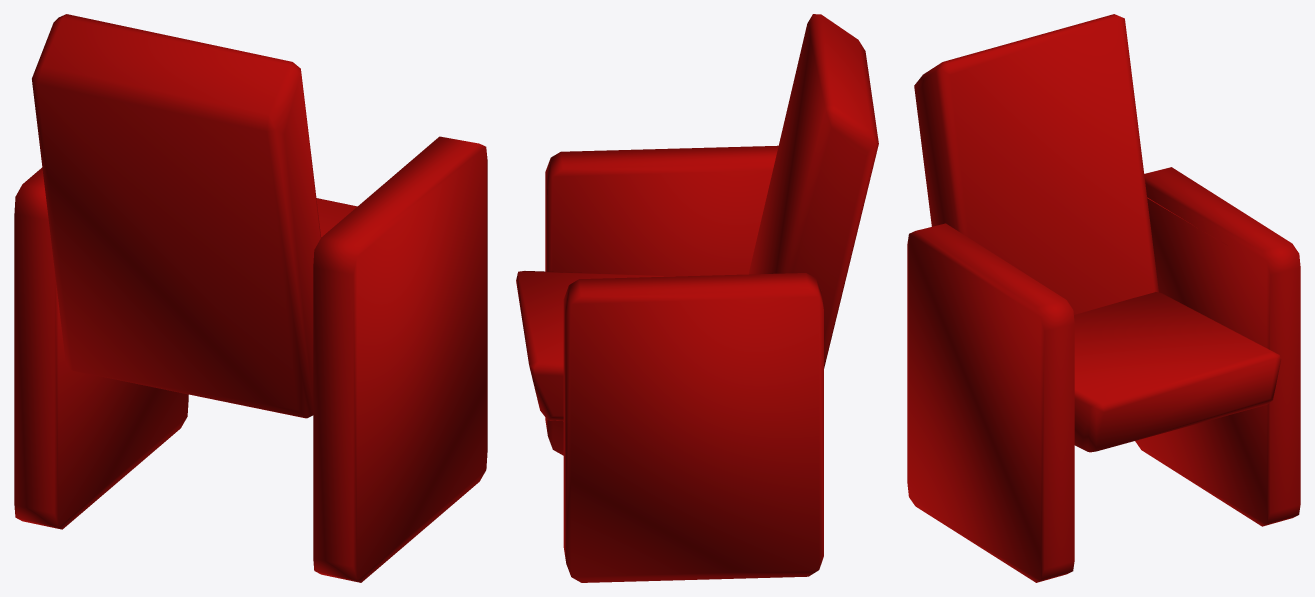
The model's file is piece3.glb.
3 views of the same model, side by side, from view 1: azimuth 30°, elevation 25°; view 2: azimuth 150°, elevation 25°; view 3: azimuth 270°, elevation 25° (orthographic). The views are drawn at different scales.
Visible parts, largest first — view 1: Cube; view 2: Cube; view 3: Cube.
Boxes of the visible parts, x1,y1,x2,y2 form: Cube: (14, 14, 487, 582); Cube: (516, 14, 878, 582); Cube: (907, 14, 1300, 582).
Size of the model in its own units: 0.3845 by 0.4596 by 0.3808.
